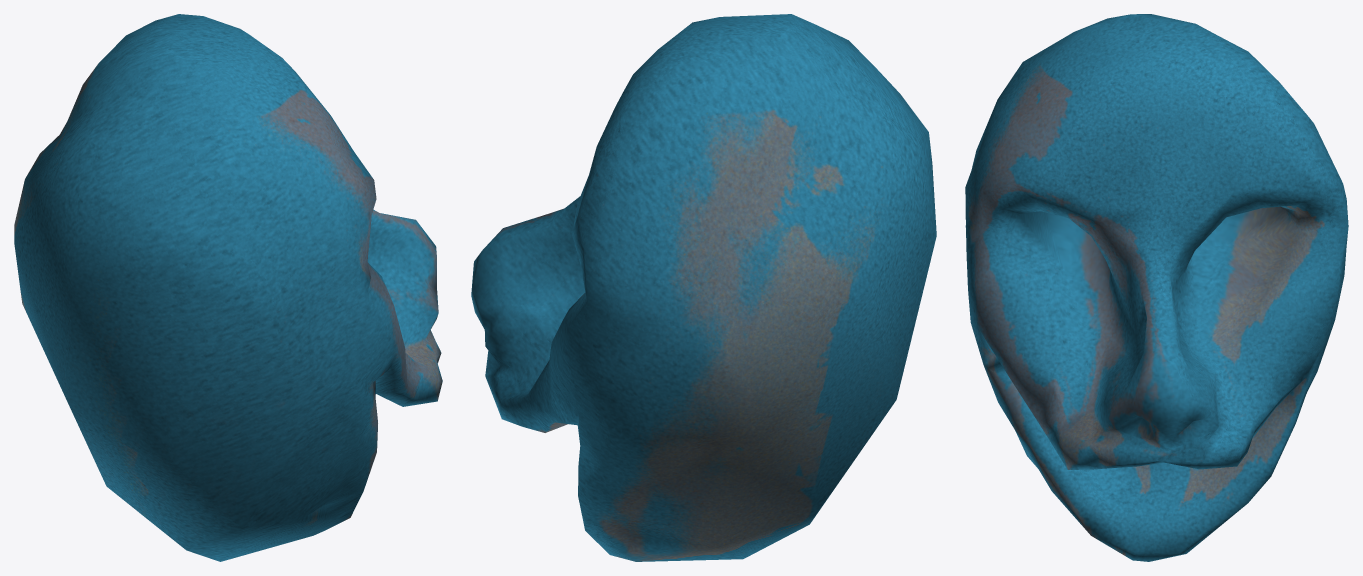
Rendered from laughgoblin.glb.
3 views of the same model, side by side, from view 1: azimuth 30°, elevation 25°; view 2: azimuth 150°, elevation 25°; view 3: azimuth 270°, elevation 25° (orthographic). The views are drawn at different scales.
Parts seen in each view (by area): view 1: laughinggoblin_mesh_rgb_export; view 2: laughinggoblin_mesh_rgb_export; view 3: laughinggoblin_mesh_rgb_export.
Boxes of the visible parts, x1,y1,x2,y2 form: laughinggoblin_mesh_rgb_export: (14,14,442,561); laughinggoblin_mesh_rgb_export: (471,14,936,561); laughinggoblin_mesh_rgb_export: (965,14,1348,561).
Size of the model in its own units: 0.0928 by 0.1144 by 0.0824.
Materials: 1 (1 with a texture image).
